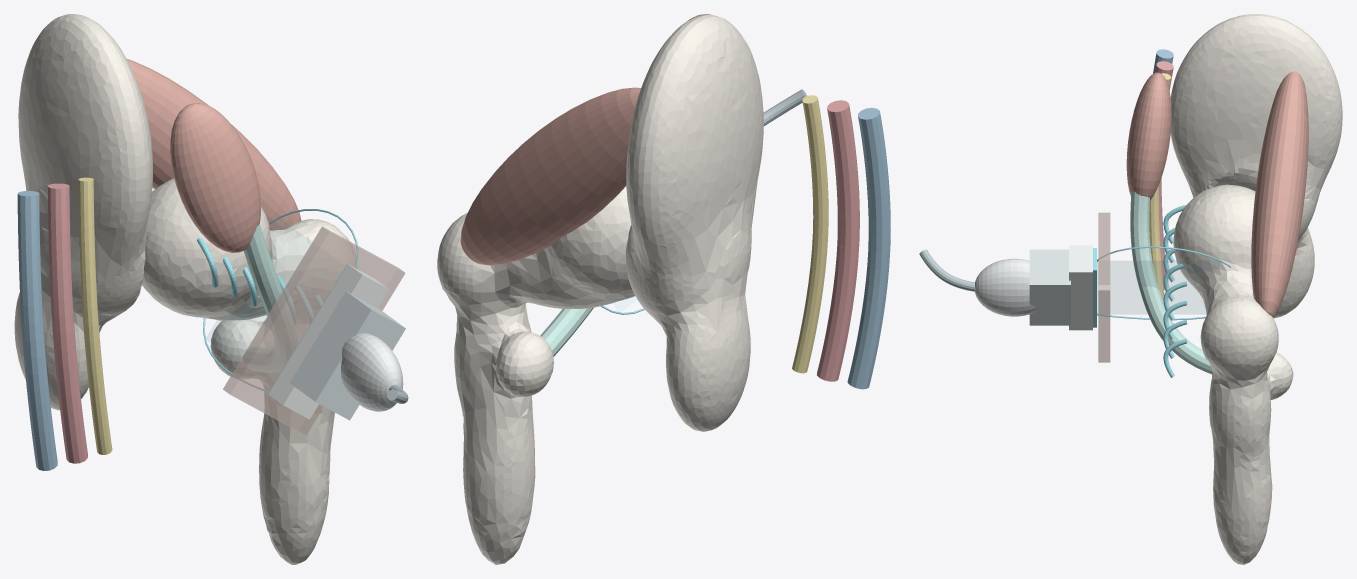
File: hip-short.glb
3 views of the same model, side by side, from view 1: azimuth 30°, elevation 25°; view 2: azimuth 150°, elevation 25°; view 3: azimuth 270°, elevation 25° (orthographic). The views are drawn at different scales.
Parts seen in each view (by area): view 1: Hemipelvis - partial, Femur, Local skin contact patch - surrounding skin omitted, Iliopsoas - partial, Femoral vein, Femoral artery, Gluteus medius - partial, Transducer body, Femoral nerve, Iliopsoas tendon, Illustrative imaging plane - not a simulated sonogram, Transducer grip (+2 smaller); view 2: Hemipelvis - partial, Femur, Gluteus medius - partial, Femoral vein, Femoral artery, Femoral nerve, Iliopsoas tendon, Probe cable - schematic; view 3: Femur, Hemipelvis - partial, Gluteus medius - partial, Iliopsoas - partial, Illustrative imaging plane - not a simulated sonogram, Iliopsoas tendon, Transducer body, Transducer grip, Transducer head, Local skin contact patch - surrounding skin omitted, Femoral nerve, Probe cable - schematic (+1 smaller).
Part boxes in pixels (x1,y1,x2,y2): Hemipelvis - partial: (14, 14, 152, 410); Femur: (142, 178, 356, 564); Local skin contact patch - surrounding skin omitted: (223, 226, 405, 435); Iliopsoas - partial: (170, 103, 260, 252); Femoral vein: (17, 191, 57, 470); Femoral artery: (48, 183, 87, 463); Gluteus medius - partial: (127, 59, 301, 230); Transducer body: (290, 291, 405, 420); Femoral nerve: (78, 177, 112, 454); Iliopsoas tendon: (243, 224, 297, 372); Illustrative imaging plane - not a simulated sonogram: (206, 219, 311, 362); Transducer grip: (341, 333, 403, 411); Hemipelvis - partial: (625, 15, 763, 431); Femur: (437, 186, 635, 564); Gluteus medius - partial: (460, 87, 640, 265); Femoral vein: (847, 107, 890, 389); Femoral artery: (817, 100, 859, 381); Femoral nerve: (792, 95, 828, 373); Iliopsoas tendon: (540, 307, 593, 356); Probe cable - schematic: (763, 89, 806, 126); Femur: (1173, 184, 1293, 564); Hemipelvis - partial: (1170, 14, 1342, 318); Gluteus medius - partial: (1251, 71, 1308, 317); Iliopsoas - partial: (1126, 72, 1171, 200); Illustrative imaging plane - not a simulated sonogram: (1097, 261, 1219, 313); Iliopsoas tendon: (1130, 190, 1212, 374); Transducer body: (1029, 249, 1070, 325); Transducer grip: (975, 258, 1036, 316); Transducer head: (1069, 245, 1092, 330); Local skin contact patch - surrounding skin omitted: (1098, 212, 1110, 362); Femoral nerve: (1149, 73, 1171, 299); Probe cable - schematic: (919, 249, 975, 291).
Bounding box in the file's own units: 2.65 × 3.89 × 3.17.
